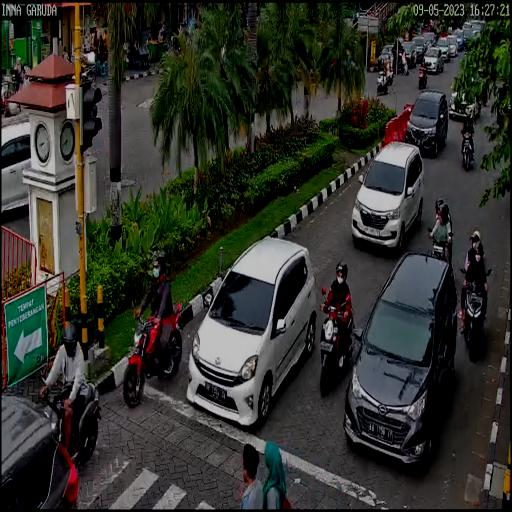mobil: (185, 231, 320, 430), (339, 255, 461, 472), (351, 138, 428, 257), (402, 89, 450, 159)
motor: (123, 287, 181, 415), (314, 295, 360, 417), (38, 377, 104, 459), (456, 262, 490, 371), (460, 127, 476, 173)
